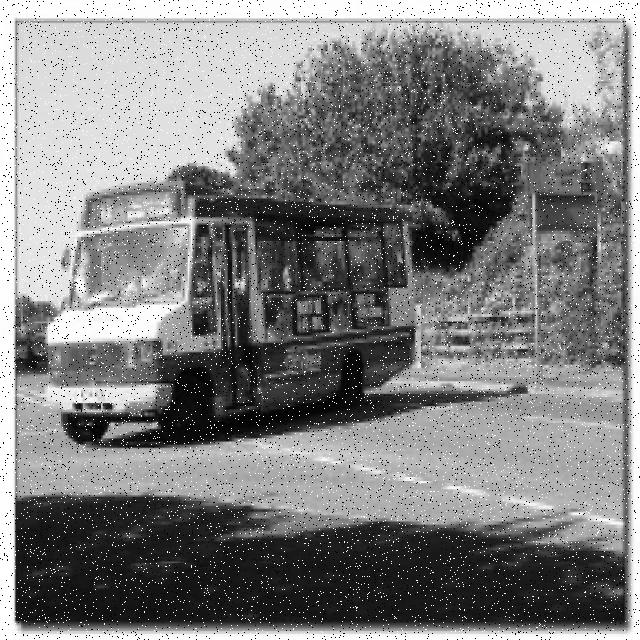Bus- Small: (44, 174, 419, 446)
